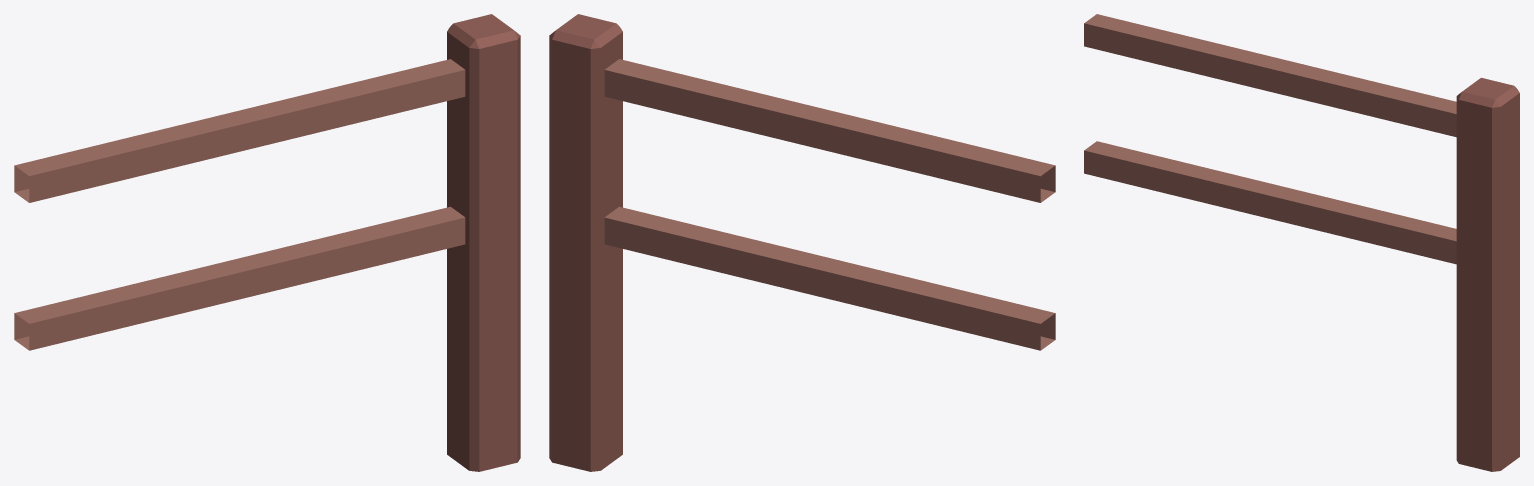
The model's file is Railing_Short.fbx.
3 views of the same model, side by side, from view 1: azimuth 30°, elevation 25°; view 2: azimuth 150°, elevation 25°; view 3: azimuth 330°, elevation 25° (orthographic). The views are drawn at different scales.
Visible parts, largest first — view 1: Railing_Short; view 2: Railing_Short; view 3: Railing_Short.
Boxes of the visible parts, x1,y1,x2,y2 form: Railing_Short: [14, 14, 520, 471]; Railing_Short: [549, 14, 1055, 471]; Railing_Short: [1084, 14, 1519, 471].
Size of the model in its own units: 1.14 by 0.12 by 0.96.
